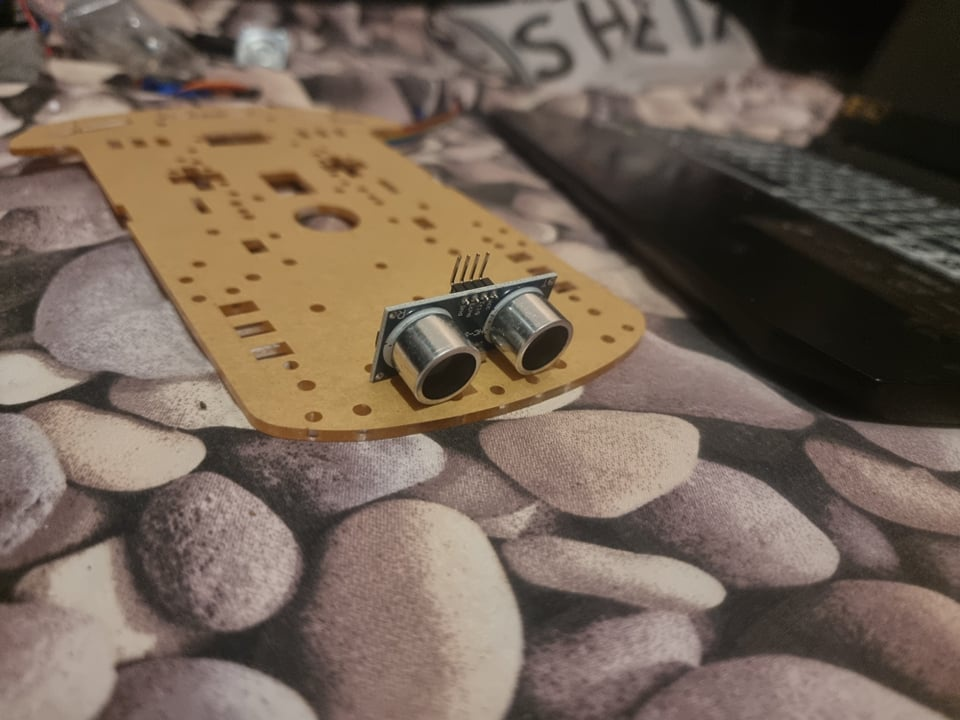SENSOR: (378, 270, 577, 409)
